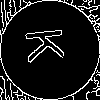K: (25, 25, 74, 64)
